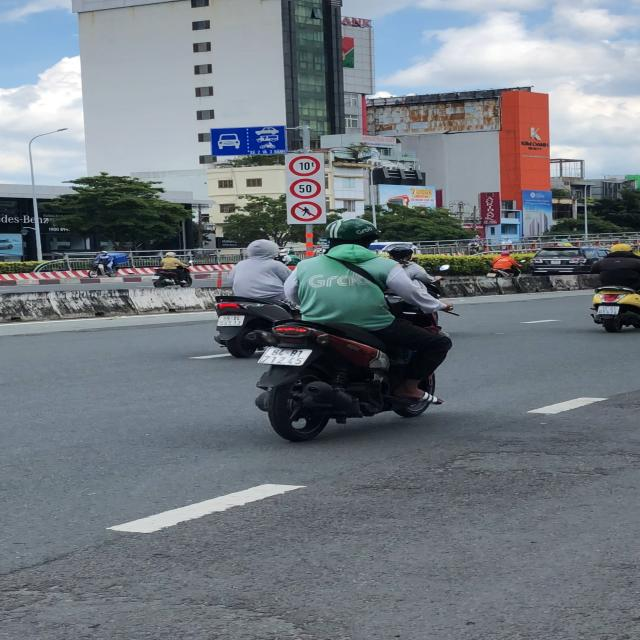Bien bao toc do toi da cho phep: (290, 176, 322, 198)
